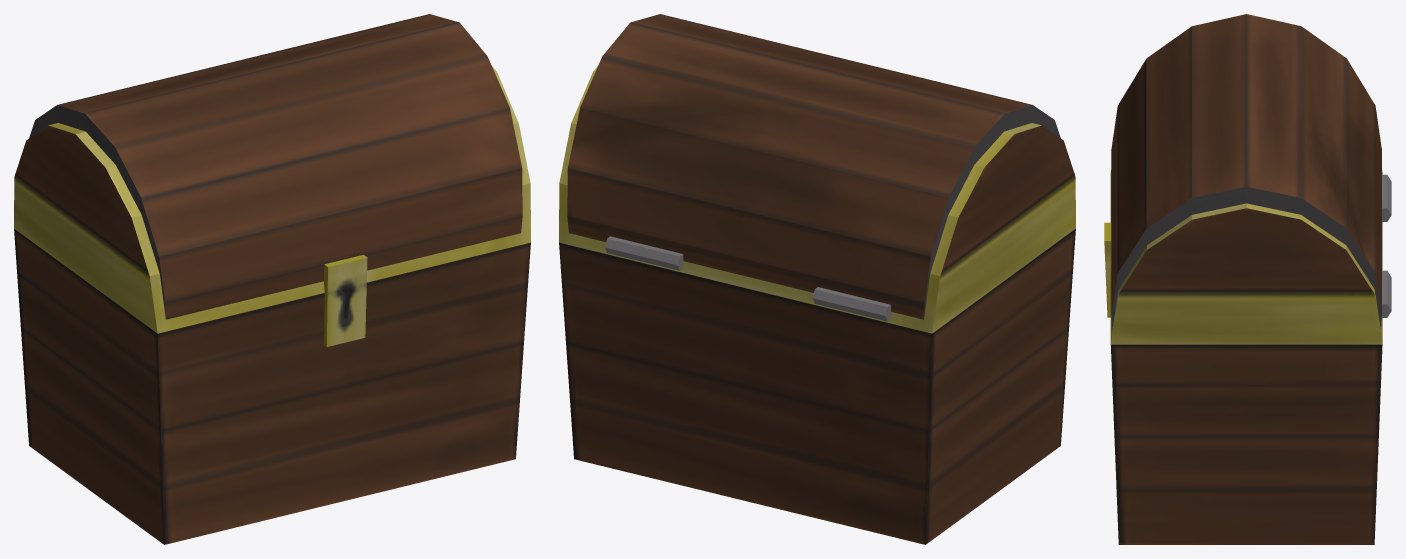
Rendered from chest.glb.
3 renders of one model, left to right at view 1: azimuth 30°, elevation 25°; view 2: azimuth 150°, elevation 25°; view 3: azimuth 270°, elevation 25°, orthographic. The views are drawn at different scales.
Visible parts, largest first — view 1: Object_2; view 2: Object_2; view 3: Object_2.
Part boxes in pixels (left/top/right/bottom): Object_2: left=14, top=14, right=530, bottom=544; Object_2: left=559, top=14, right=1075, bottom=544; Object_2: left=1104, top=14, right=1391, bottom=544.
Size of the model in its own units: 3.56 by 3.32 by 2.38.
Materials: 1 (1 with a texture image).
